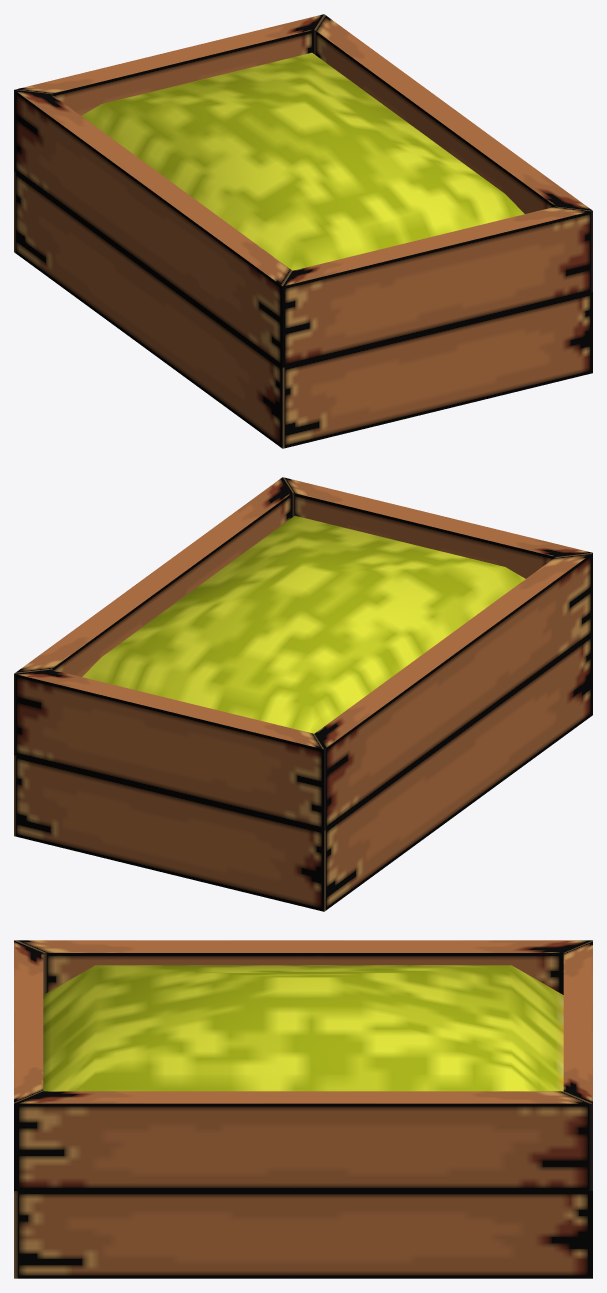
The model's file is deco_crate_barley.FBX.
The picture shows the model from 3 angles, top to bottom: view 1: azimuth 30°, elevation 25°; view 2: azimuth 150°, elevation 25°; view 3: azimuth 270°, elevation 25°; orthographic projection. The views are drawn at different scales.
Visible parts, largest first — view 1: deco_crate_barley; view 2: deco_crate_barley; view 3: deco_crate_barley.
Part boxes in pixels (x1,y1,x2,y2): deco_crate_barley: (14,14,592,448); deco_crate_barley: (14,477,592,911); deco_crate_barley: (14,940,592,1278).
Size of the model in its own units: 1 by 0.6211 by 1.5.
1 material, 1 textured.
